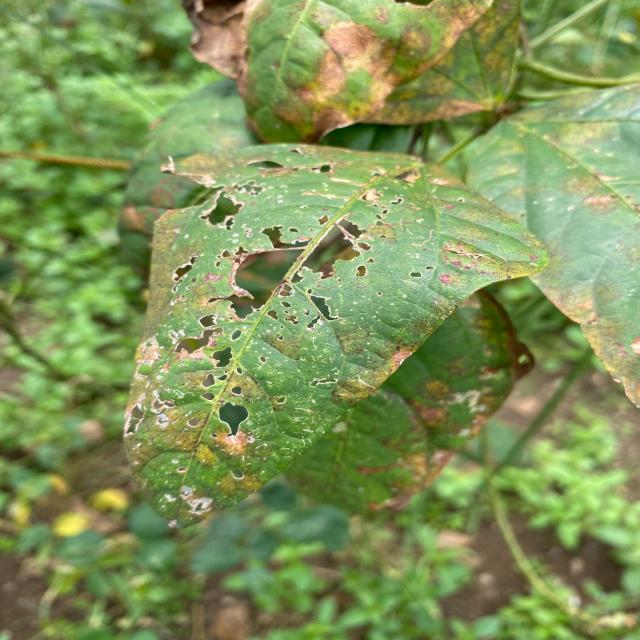leaf-moderate: (124, 145, 547, 527)
